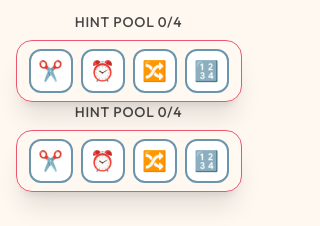
HintPoolUI › keeps two rendered clients in sync from the same shared pool state
Expected: the text "0/4" is shown 2 times, [158,13,182,31]; [158,103,182,121]
Click the 1st button with test id "duel-hint-fifty-fifty" at [50, 71], box [28,49,72,93]
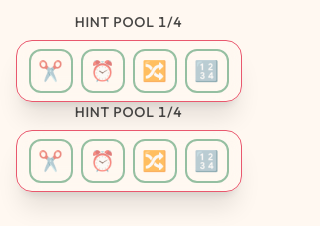
Now the 1st button with test id "duel-hint-fifty-fifty" is disabled, box [28,49,72,93]
Now the 2nd button with test id "duel-hint-fifty-fifty" is disabled, box [28,139,72,183]
Now the 1st button with test id "duel-hint-anagram" is disabled, box [132,49,176,93]
